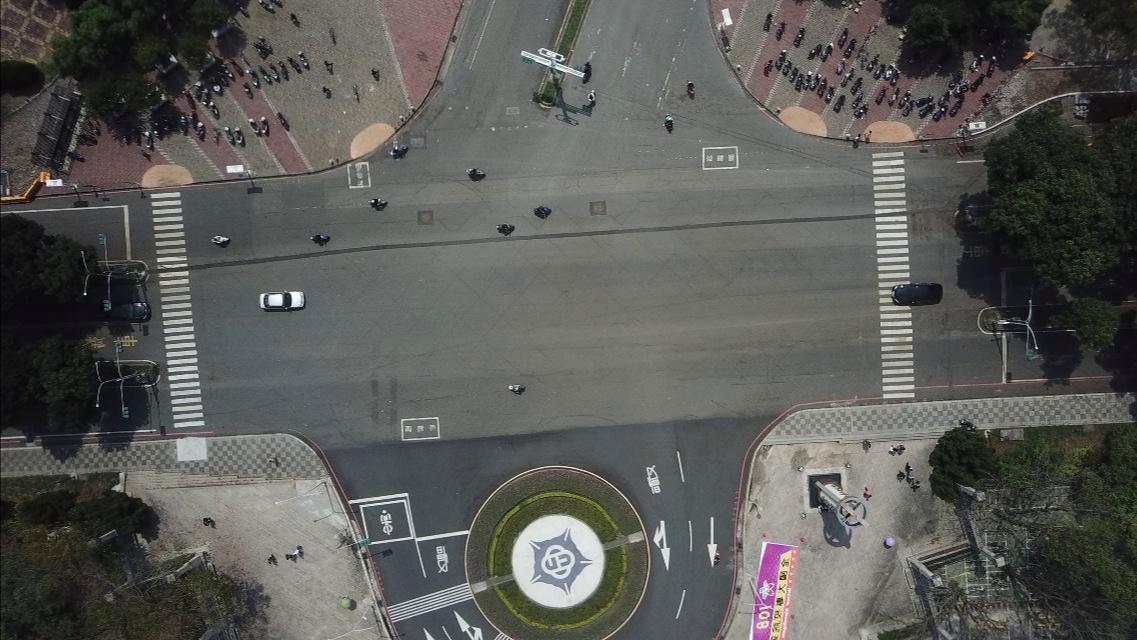vehicle: (890, 282, 944, 305), (100, 299, 152, 321), (257, 290, 305, 312)
